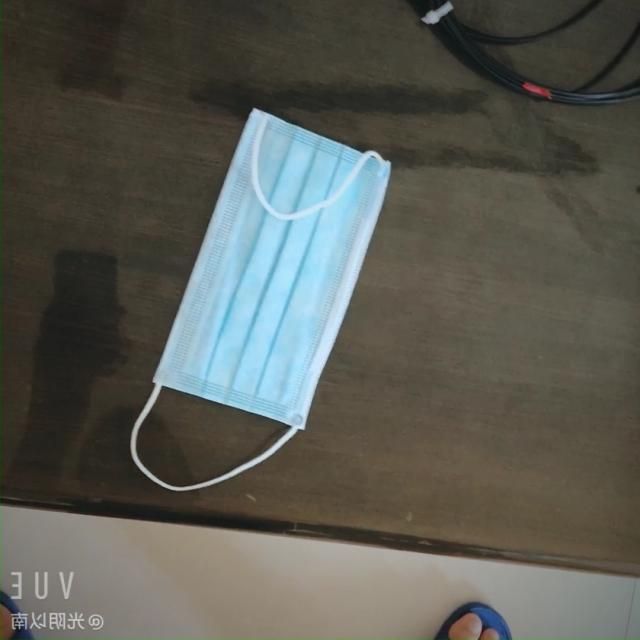face mask: (138, 104, 394, 442)
